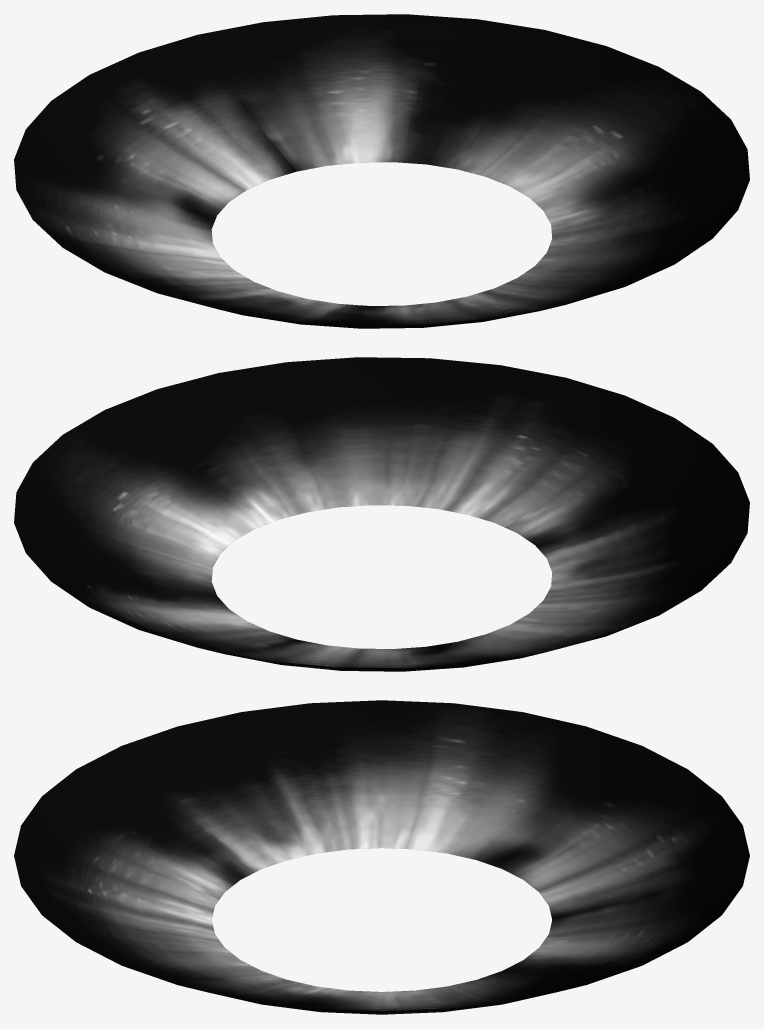
Rendered from yuanpian_1.FBX.
The picture shows the model from 3 angles, top to bottom: view 1: azimuth 30°, elevation 25°; view 2: azimuth 150°, elevation 25°; view 3: azimuth 270°, elevation 25°; orthographic projection.
Parts seen in each view (by area): view 1: Sphere001; view 2: Sphere001; view 3: Sphere001.
Part boxes in pixels (x1,y1,x2,y2): Sphere001: (14,14,749,328); Sphere001: (14,357,749,671); Sphere001: (14,700,749,1014).
Bounding box in the file's own units: 61 × 5.87 × 61.
